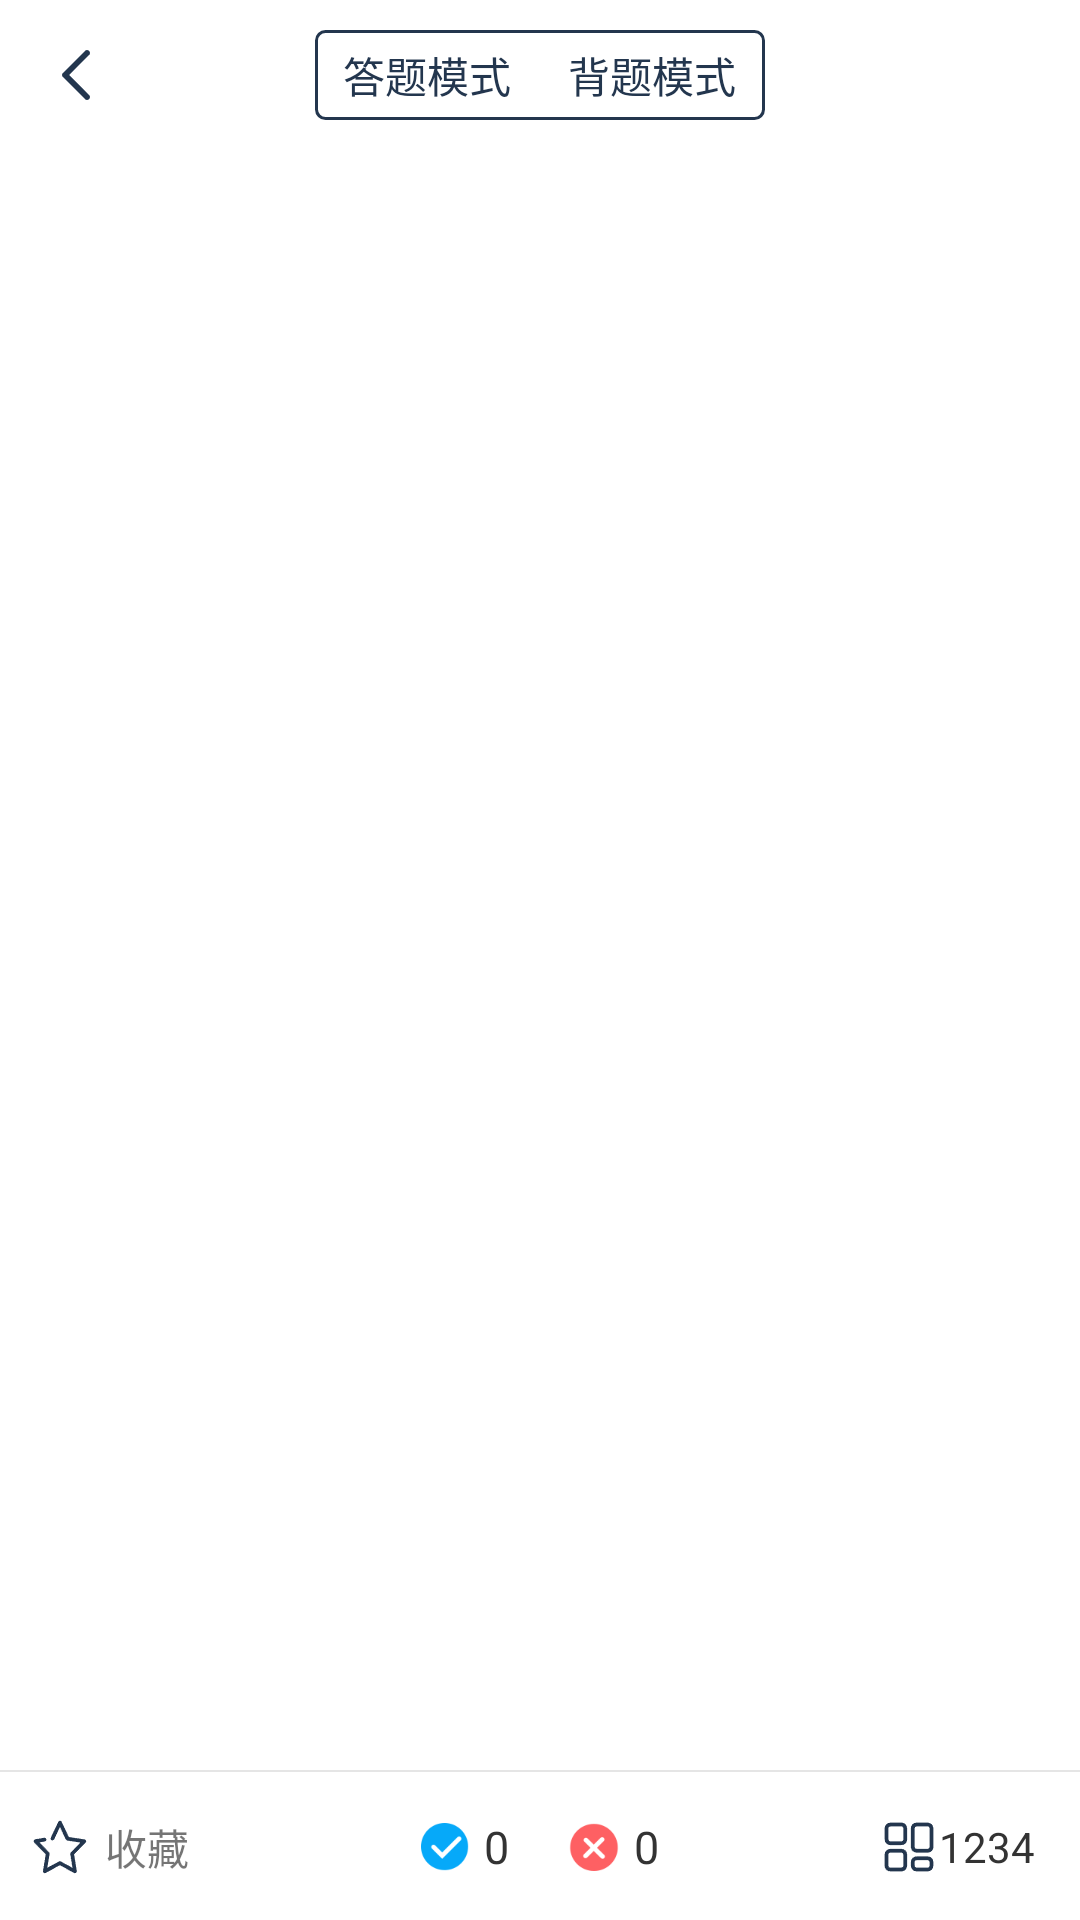

Screen size 1080*1920. Icon name, then its box in pixels as (x1, y1, x2, y2):
back: (62, 50, 90, 100)
